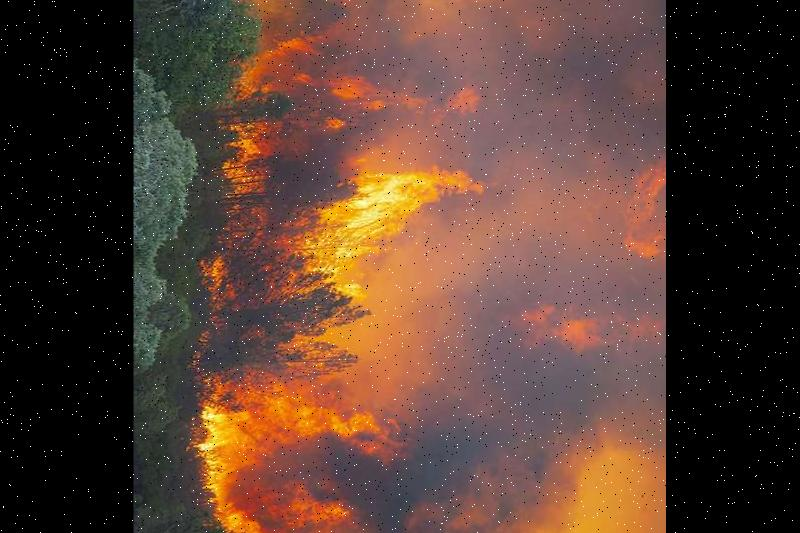fire: (190, 0, 499, 533)
